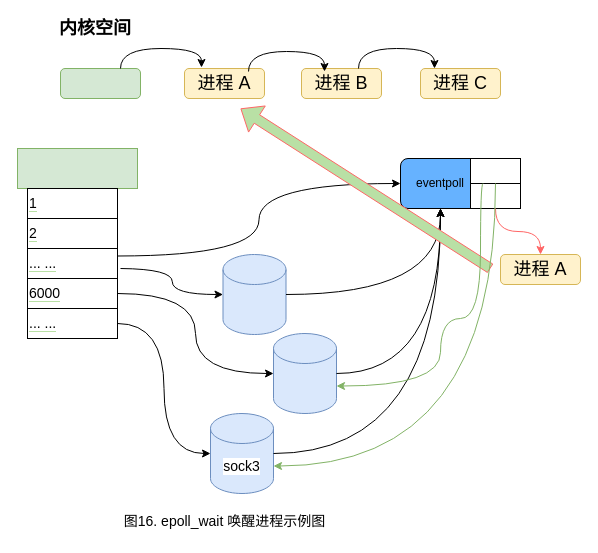
The diagram is 598 pixels wide and 553 high, and some of its shapes have lost their labels. Each missing label, with the centre of its shape:
"rdlist" goes at point 495,171.
"sock1" goes at point 254,294.
"sock2" goes at point 304,373.
"工作队列" goes at point 100,83.
"文件列表(fd)" goes at point 77,168.
"等待队列" goes at point 495,195.
